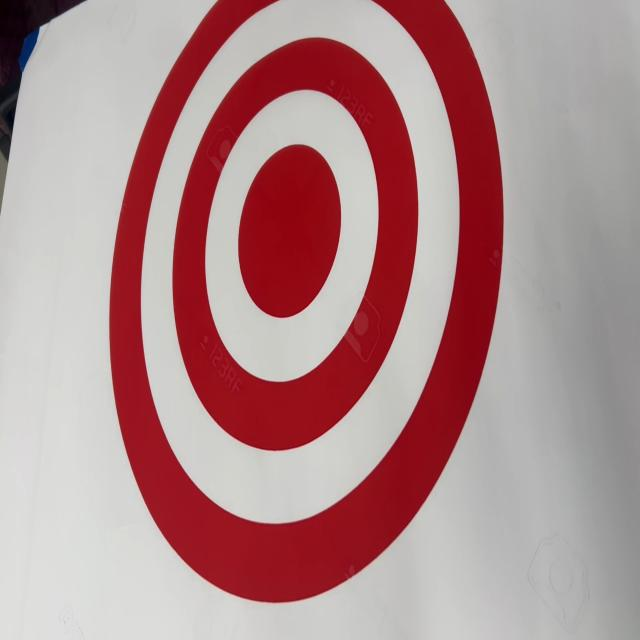target_red: (97, 0, 524, 614)
